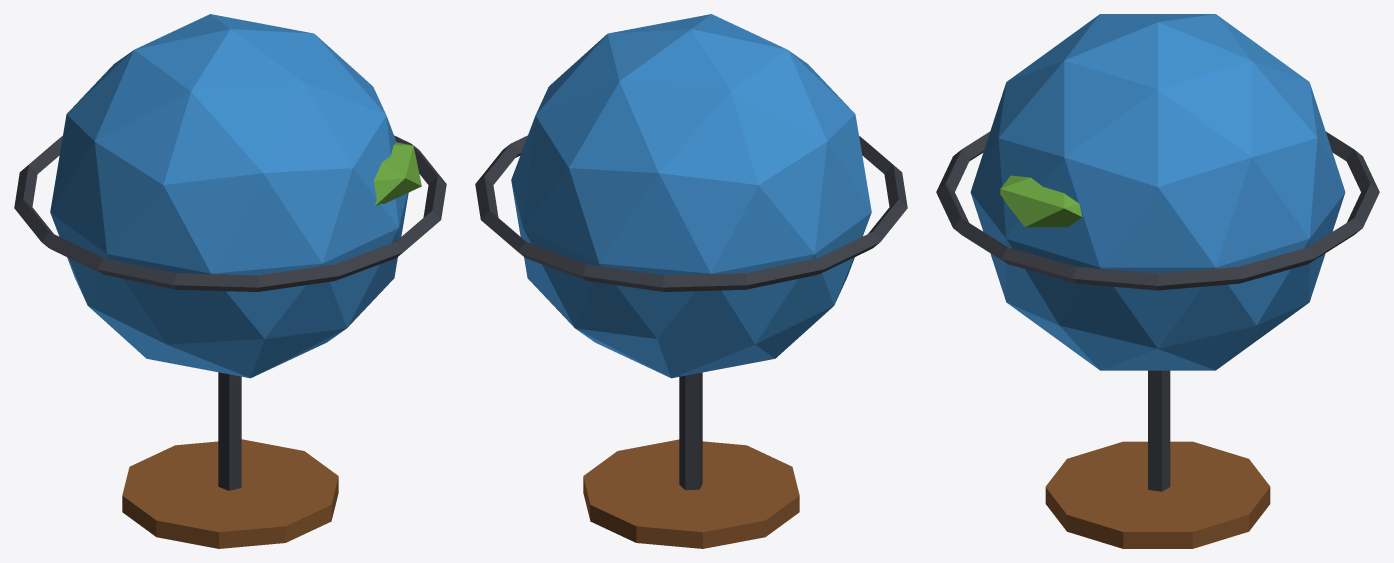
The model's file is globe.fbx.
3 views of the same model, side by side, from view 1: azimuth 30°, elevation 25°; view 2: azimuth 150°, elevation 25°; view 3: azimuth 270°, elevation 25° (orthographic).
Parts seen in each view (by area): view 1: globe; view 2: globe; view 3: globe.
Part boxes in pixels (bbox=[...]): globe: bbox=[14, 14, 446, 548]; globe: bbox=[475, 14, 907, 548]; globe: bbox=[936, 14, 1379, 548].
Bounding box in the file's own units: 0.71 × 0.85 × 0.71.
